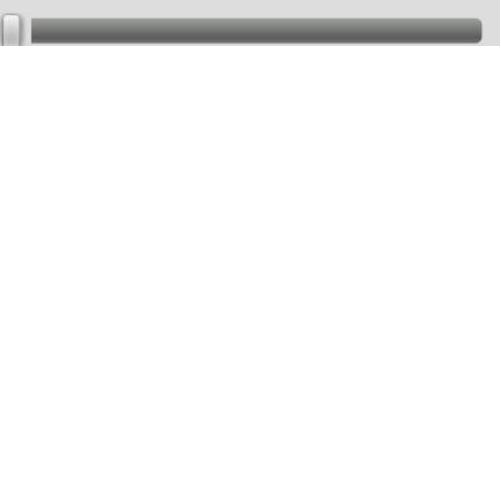SeekBar: (1, 1, 500, 63)
